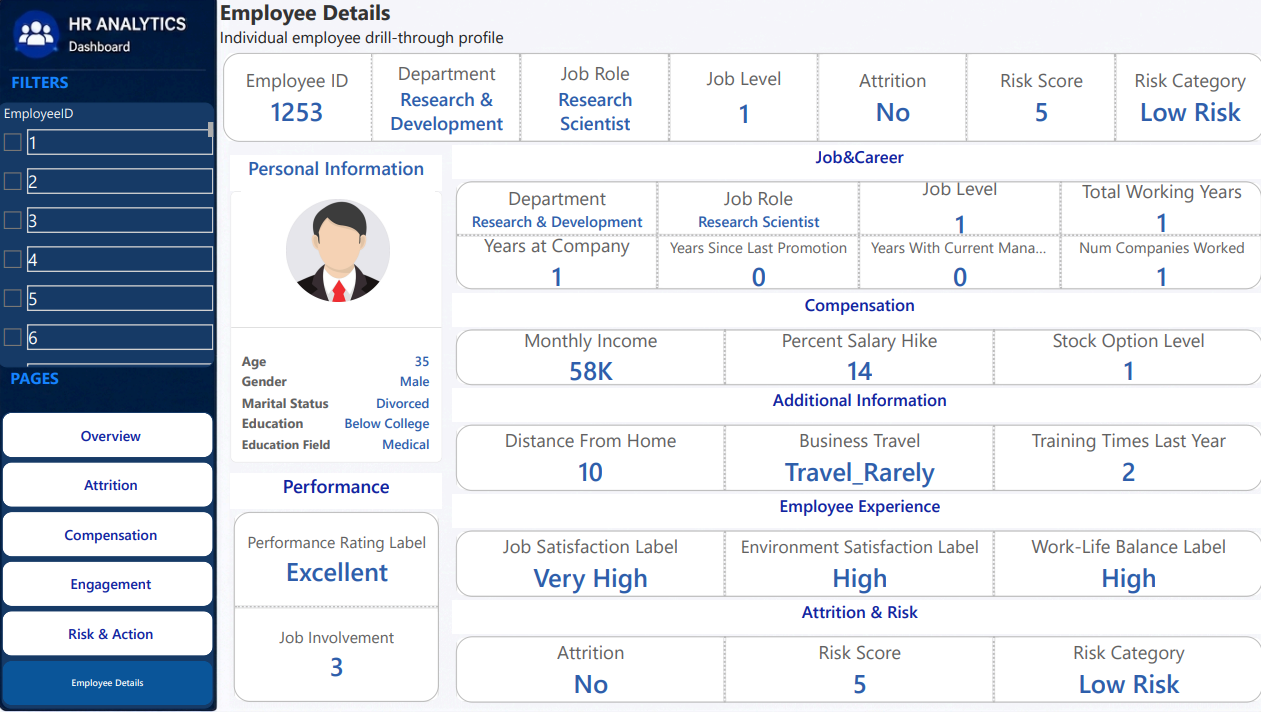

The dashboard page shown, as its layout file describes it:
{"tool":"powerbi","page":{"name":"Employee Details","canvas":[1920,1080],"ordinal":5},"visuals":[{"type":"textbox","box":[0,112,128,32],"z":0},{"type":"pageNavigator","box":[6,628,320,448],"z":1000},{"type":"textbox","box":[0,560,112,48],"z":2000},{"type":"cardVisual","fields":{"Data":["HR_Analytics_Cleaned_data.Selected Employee ID","HR_Analytics_Cleaned_data.Selected Department","HR_Analytics_Cleaned_data.Selected Job Role","HR_Analytics_Cleaned_data.Selected Job Level","HR_Analytics_Cleaned_data.Selected Attrition","HR_Analytics_Cleaned_data.Selected Risk Score","HR_Analytics_Cleaned_data.Selected Risk Category","HR_Analytics_Cleaned_data.Selected Risk Score"]},"box":[336,80,1584,144],"z":3000},{"type":"cardVisual","title":"Personal Information","fields":{"Data":["HR_Analytics_Cleaned_data.Selected Employee ID"]},"box":[352,240,320,464],"z":4000},{"type":"pivotTable","fields":{"Rows":["HR_Analytics_Cleaned_data.Gender Image URL"]},"box":[352,272,320,224],"z":5000},{"type":"slicer","fields":{"Values":["HR_Analytics_Cleaned_data.EmployeeID"]},"box":[0,160,327,400],"z":6000},{"type":"cardVisual","title":"Job&Career","fields":{"Data":["HR_Analytics_Cleaned_data.Selected Department","HR_Analytics_Cleaned_data.Selected Job Role","HR_Analytics_Cleaned_data.Selected Job Level","HR_Analytics_Cleaned_data.Selected Total Working Years","HR_Analytics_Cleaned_data.Selected Years at Company","HR_Analytics_Cleaned_data.Selected Years Since Promotion","HR_Analytics_Cleaned_data.Selected Years With Manager","Sum(HR_Analytics_Cleaned_data.NumCompaniesWorked)"]},"box":[688,224,1232,224],"z":7000},{"type":"cardVisual","title":"Compensation","fields":{"Data":["HR_Analytics_Cleaned_data.Selected Monthly Income","Sum(HR_Analytics_Cleaned_data.PercentSalaryHike)","HR_Analytics_Cleaned_data.Selected Stock Option Level"]},"box":[688,448,1232,144],"z":8000},{"type":"cardVisual","title":"Additional Information","fields":{"Data":["Sum(HR_Analytics_Cleaned_data.DistanceFromHome)","Min(HR_Analytics_Cleaned_data.BusinessTravel)","Sum(HR_Analytics_Cleaned_data.TrainingTimesLastYear)"]},"box":[688,592,1232,160],"z":9000},{"type":"cardVisual","title":"Performance","fields":{"Data":["Min(HR_Analytics_Cleaned_data.PerformanceRating_Label)","Sum(HR_Analytics_Cleaned_data.JobInvolvement)"]},"box":[352,720,320,352],"z":10000},{"type":"cardVisual","title":"Employee Experience","fields":{"Data":["Min(HR_Analytics_Cleaned_data.JobSatisfaction_Label)","Min(HR_Analytics_Cleaned_data.EnvironmentSatisfaction_Label)","Min(HR_Analytics_Cleaned_data.WorkLifeBalance_Label)"]},"box":[688,752,1232,160],"z":11000},{"type":"cardVisual","title":"Attrition & Risk ","fields":{"Data":["HR_Analytics_Cleaned_data.Selected Attrition","HR_Analytics_Cleaned_data.Selected Risk Score","HR_Analytics_Cleaned_data.Selected Risk Category"]},"box":[688,912,1232,160],"z":12000},{"type":"textbox","box":[336,0,944,80],"z":13000}]}

Visuals, with their boxes on the page's 1920x1080 design canvas (x1, y1, x2, y2). These are canvas units, not pixel positions in the 1261x714 screenshot, which may show the page scaled, cropped or inside an application window:
textbox: BBox(0, 112, 128, 144)
pageNavigator: BBox(6, 628, 326, 1076)
textbox: BBox(0, 560, 112, 608)
cardVisual - HR_Analytics_Cleaned_data.Selected Employee ID x HR_Analytics_Cleaned_data.Selected Department: BBox(336, 80, 1920, 224)
"Personal Information" cardVisual: BBox(352, 240, 672, 704)
pivotTable - HR_Analytics_Cleaned_data.Gender Image URL: BBox(352, 272, 672, 496)
slicer - HR_Analytics_Cleaned_data.EmployeeID: BBox(0, 160, 327, 560)
"Job&Career" cardVisual: BBox(688, 224, 1920, 448)
"Compensation" cardVisual: BBox(688, 448, 1920, 592)
"Additional Information" cardVisual: BBox(688, 592, 1920, 752)
"Performance" cardVisual: BBox(352, 720, 672, 1072)
"Employee Experience" cardVisual: BBox(688, 752, 1920, 912)
"Attrition & Risk " cardVisual: BBox(688, 912, 1920, 1072)
textbox: BBox(336, 0, 1280, 80)
